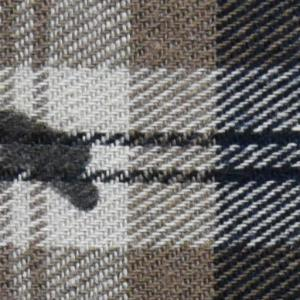Oil Stain: (1, 101, 106, 219)
